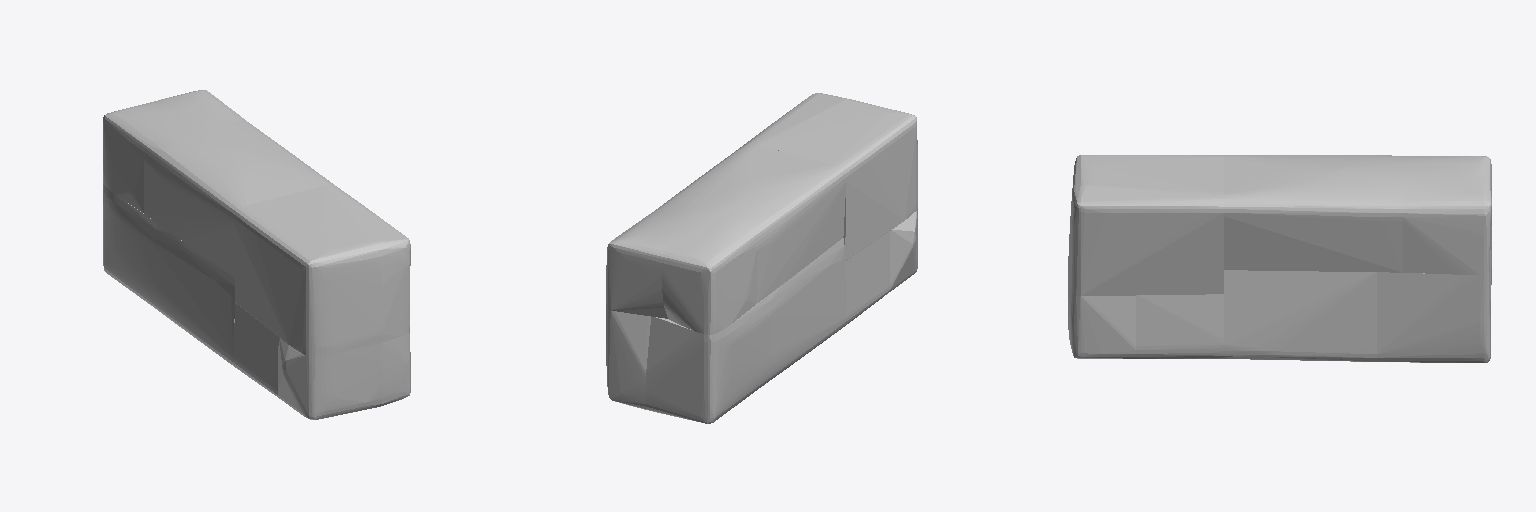
File: coacd_collision.obj
3 renders of one model, left to right at view 1: azimuth 30°, elevation 25°; view 2: azimuth 150°, elevation 25°; view 3: azimuth 270°, elevation 25°, orthographic.
Parts seen in each view (by area): view 1: geometry_0, geometry_3, geometry_1, geometry_4, geometry_7, geometry_8, geometry_2, geometry_6; view 2: geometry_3, geometry_0, geometry_8, geometry_7, geometry_4, geometry_6, geometry_5, geometry_2, geometry_1; view 3: geometry_0, geometry_3, geometry_4, geometry_5, geometry_6, geometry_2, geometry_1, geometry_7.
Part boxes in pixels (x1,y1,x2,y2): geometry_0: (234, 185, 410, 355); geometry_3: (144, 121, 334, 276); geometry_1: (278, 333, 410, 419); geometry_4: (155, 223, 235, 367); geometry_7: (103, 101, 194, 212); geometry_8: (103, 183, 159, 311); geometry_2: (234, 303, 278, 397); geometry_6: (155, 90, 246, 125); geometry_3: (654, 144, 845, 302); geometry_0: (744, 93, 917, 260); geometry_8: (646, 295, 771, 423); geometry_7: (661, 217, 756, 334); geometry_4: (767, 238, 845, 382); geometry_6: (606, 211, 705, 318); geometry_5: (606, 308, 650, 409); geometry_2: (844, 231, 890, 326); geometry_1: (890, 209, 917, 291); geometry_0: (1068, 155, 1223, 295); geometry_3: (1224, 155, 1402, 272); geometry_4: (1224, 270, 1376, 361); geometry_5: (1377, 272, 1490, 362); geometry_6: (1403, 172, 1491, 274); geometry_2: (1136, 294, 1223, 358); geometry_1: (1068, 281, 1135, 358); geometry_7: (1403, 156, 1491, 225).
Bounding box in the file's own units: 43.69 × 59.81 × 136.